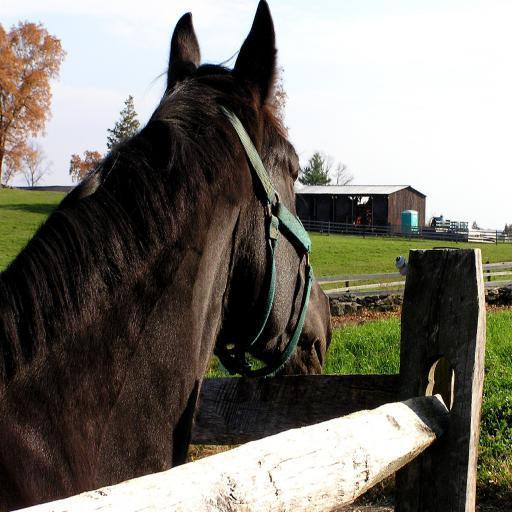horse: (0, 0, 334, 512)
